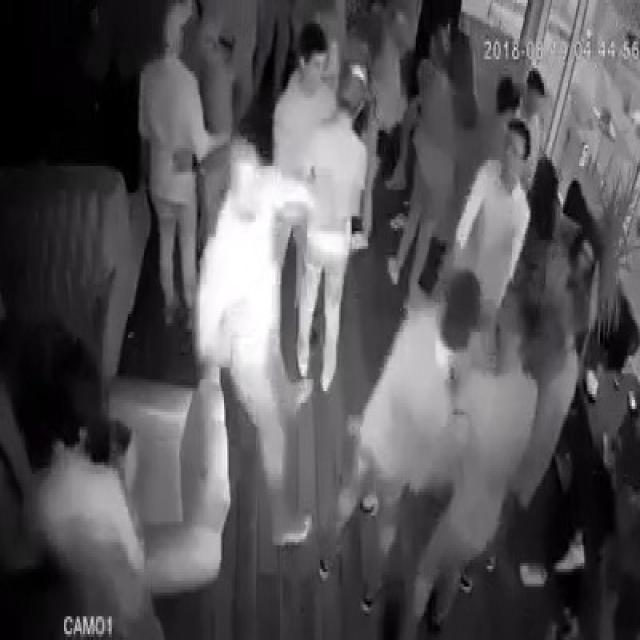fight: (196, 147, 314, 550)
